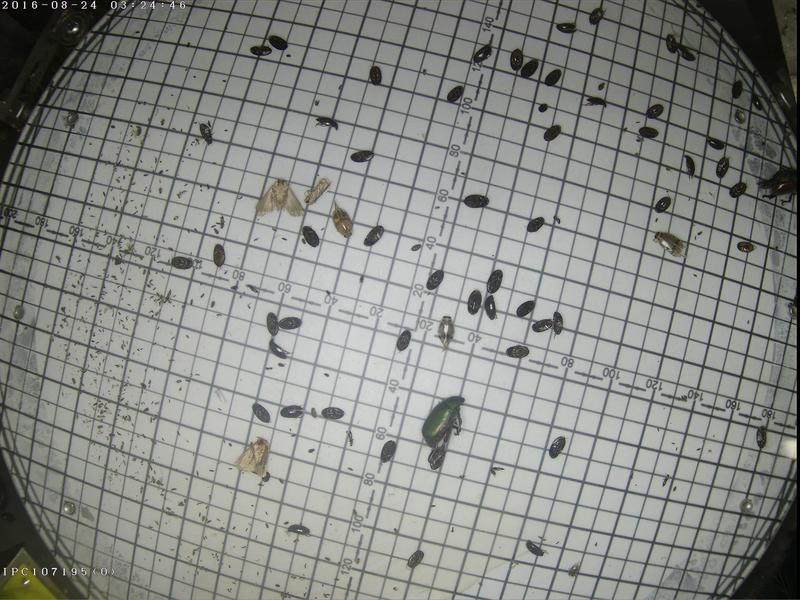Spodoptera exigua: (299, 174, 330, 202)
